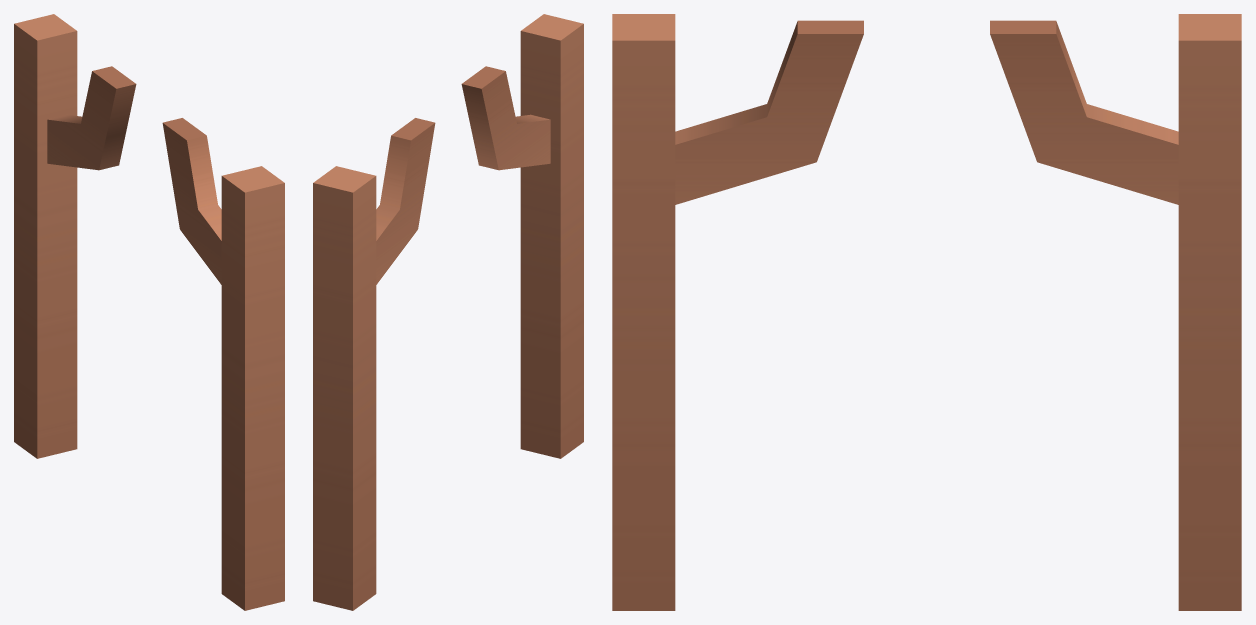
Rendered from balcony-wall.fbx.
The picture shows the model from 3 angles, left to right: view 1: azimuth 30°, elevation 25°; view 2: azimuth 150°, elevation 25°; view 3: azimuth 270°, elevation 25°; orthographic projection. The views are drawn at different scales.
Parts seen in each view (by area): view 1: balcony-wall; view 2: balcony-wall; view 3: balcony-wall.
Boxes of the visible parts, x1,y1,x2,y2 form: balcony-wall: [14, 14, 284, 610]; balcony-wall: [313, 14, 583, 610]; balcony-wall: [612, 14, 1241, 610].
Bounding box in the file's own units: 10 × 100 × 100.
Materials: 1 (1 with a texture image).
